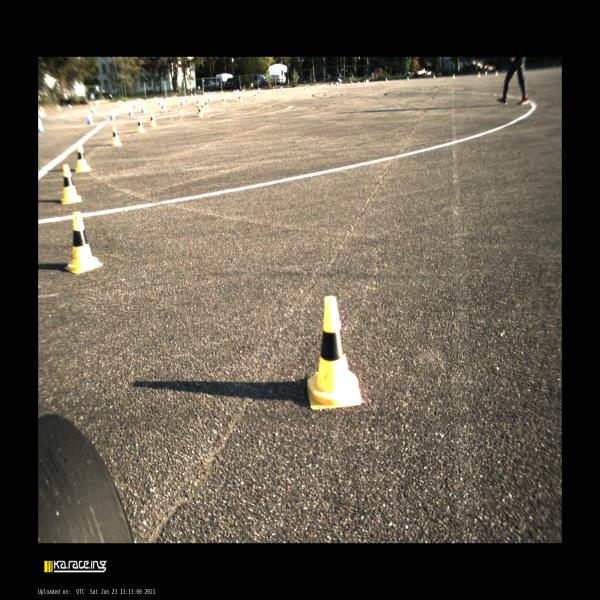blue_cone: (87, 111, 94, 125), (38, 118, 45, 132), (109, 107, 116, 120), (128, 106, 134, 116), (140, 103, 146, 113), (180, 97, 185, 105), (185, 95, 189, 102), (161, 100, 164, 108), (196, 96, 199, 103), (304, 84, 307, 90), (330, 82, 333, 87), (324, 82, 326, 88), (340, 80, 342, 86), (350, 80, 353, 84), (484, 71, 487, 75), (336, 81, 338, 86), (386, 77, 388, 82), (280, 86, 282, 90), (407, 76, 409, 80), (433, 75, 435, 79)
yellow_cone: (307, 296, 362, 410), (64, 210, 103, 274), (59, 163, 83, 205), (73, 142, 91, 173), (111, 124, 123, 147), (136, 116, 146, 133), (149, 112, 158, 128), (197, 104, 204, 117), (200, 102, 205, 112), (204, 100, 209, 109), (222, 98, 226, 104), (453, 73, 456, 79), (307, 84, 310, 90), (272, 86, 275, 92), (257, 90, 260, 96), (363, 80, 366, 85), (239, 95, 241, 102), (496, 70, 498, 76), (260, 92, 262, 98), (254, 93, 256, 99), (478, 72, 480, 77), (358, 81, 360, 86)
